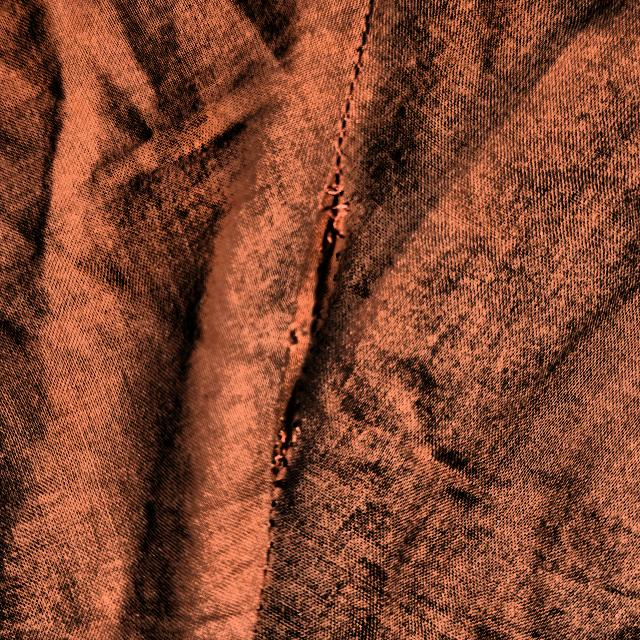seam: (246, 147, 404, 544)
